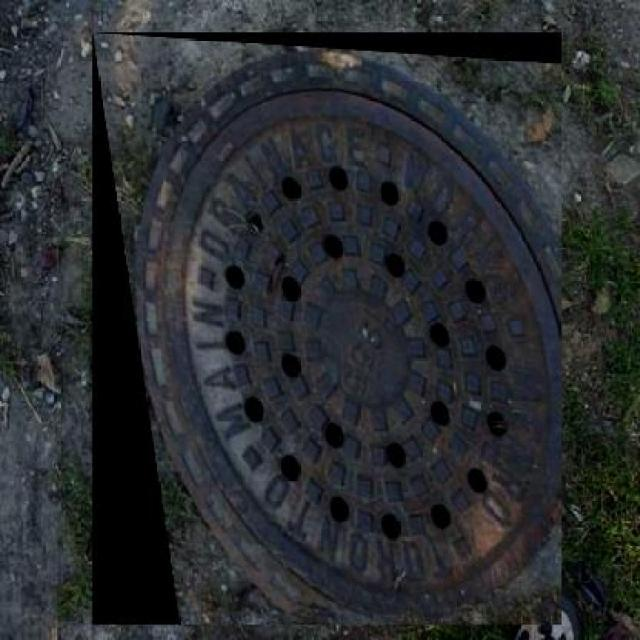Manhole: (93, 32, 562, 625)
